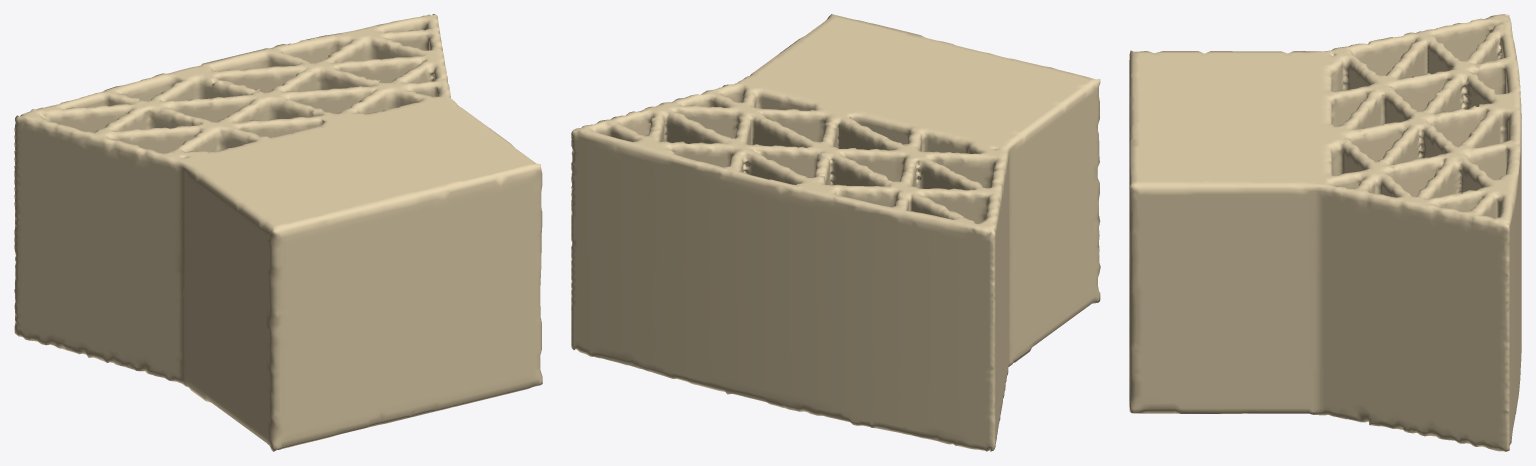
Rendered from ollie-paw-shape-005.glb.
The picture shows the model from 3 angles, left to right: view 1: azimuth 30°, elevation 25°; view 2: azimuth 150°, elevation 25°; view 3: azimuth 270°, elevation 25°; orthographic projection. The views are drawn at different scales.
Visible parts, largest first — view 1: _Paw_SemiCirclePercent_5_; view 2: _Paw_SemiCirclePercent_5_; view 3: _Paw_SemiCirclePercent_5_.
Boxes of the visible parts, x1,y1,x2,y2 form: _Paw_SemiCirclePercent_5_: (14,14,542,451); _Paw_SemiCirclePercent_5_: (571,14,1100,451); _Paw_SemiCirclePercent_5_: (1129,14,1521,451).
Bounding box in the file's own units: 39.87 × 20 × 31.
